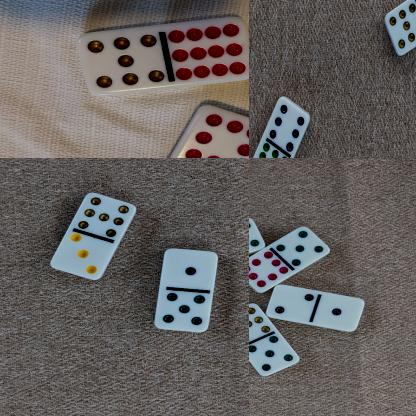pip-1: (160, 248, 218, 291), (314, 294, 364, 331)
pip-11: (249, 141, 289, 158)
pip-12: (167, 17, 249, 85)
pip-2: (266, 285, 316, 323)
pip-3: (49, 231, 107, 282)
pip-5: (154, 289, 212, 334), (274, 226, 328, 267), (249, 336, 298, 376), (249, 217, 264, 255)
pip-6: (268, 98, 310, 154)
pip-7: (78, 26, 165, 98), (76, 194, 136, 238), (383, 2, 416, 58), (249, 303, 269, 343)
pip-8: (185, 107, 249, 158), (249, 251, 287, 293)
